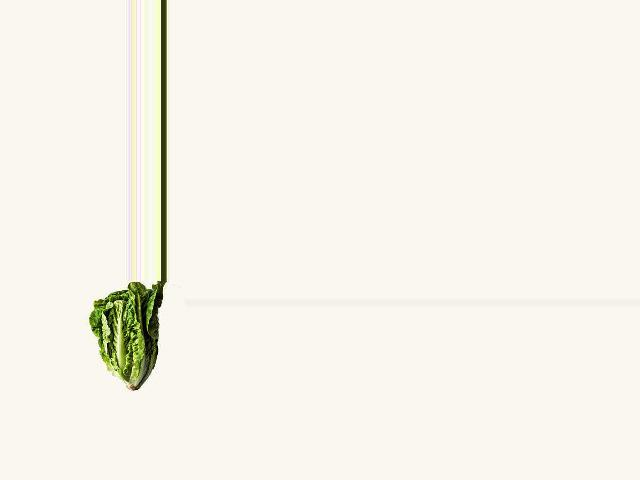lettuce: (85, 281, 163, 387)
